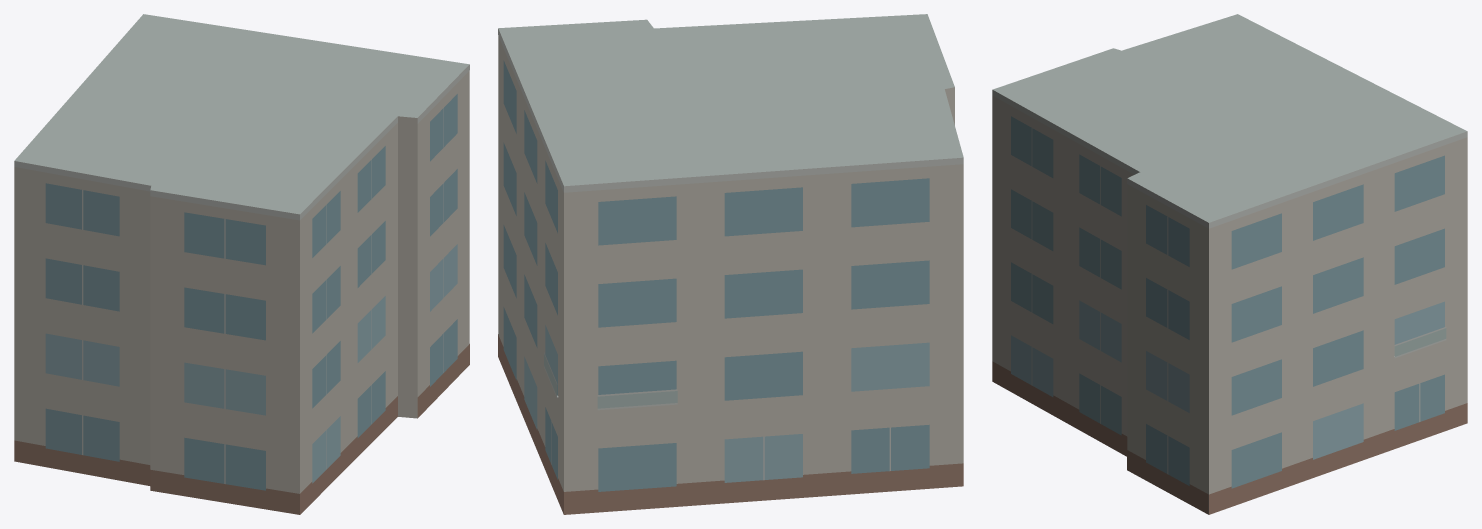
Rendered from survey-upis-32677978.glb.
3 views of the same model, side by side, from view 1: azimuth 30°, elevation 25°; view 2: azimuth 150°, elevation 25°; view 3: azimuth 270°, elevation 25° (orthographic). The views are drawn at different scales.
Parts seen in each view (by area): view 1: survey-upis-32677978.tmp; view 2: survey-upis-32677978.tmp; view 3: survey-upis-32677978.tmp.
Boxes of the visible parts, x1=… form: survey-upis-32677978.tmp: x1=14, y1=14, x2=469, y2=514; survey-upis-32677978.tmp: x1=498, y1=14, x2=963, y2=514; survey-upis-32677978.tmp: x1=992, y1=14, x2=1467, y2=514.
Bounding box in the file's own units: 18.73 × 12.2 × 18.
